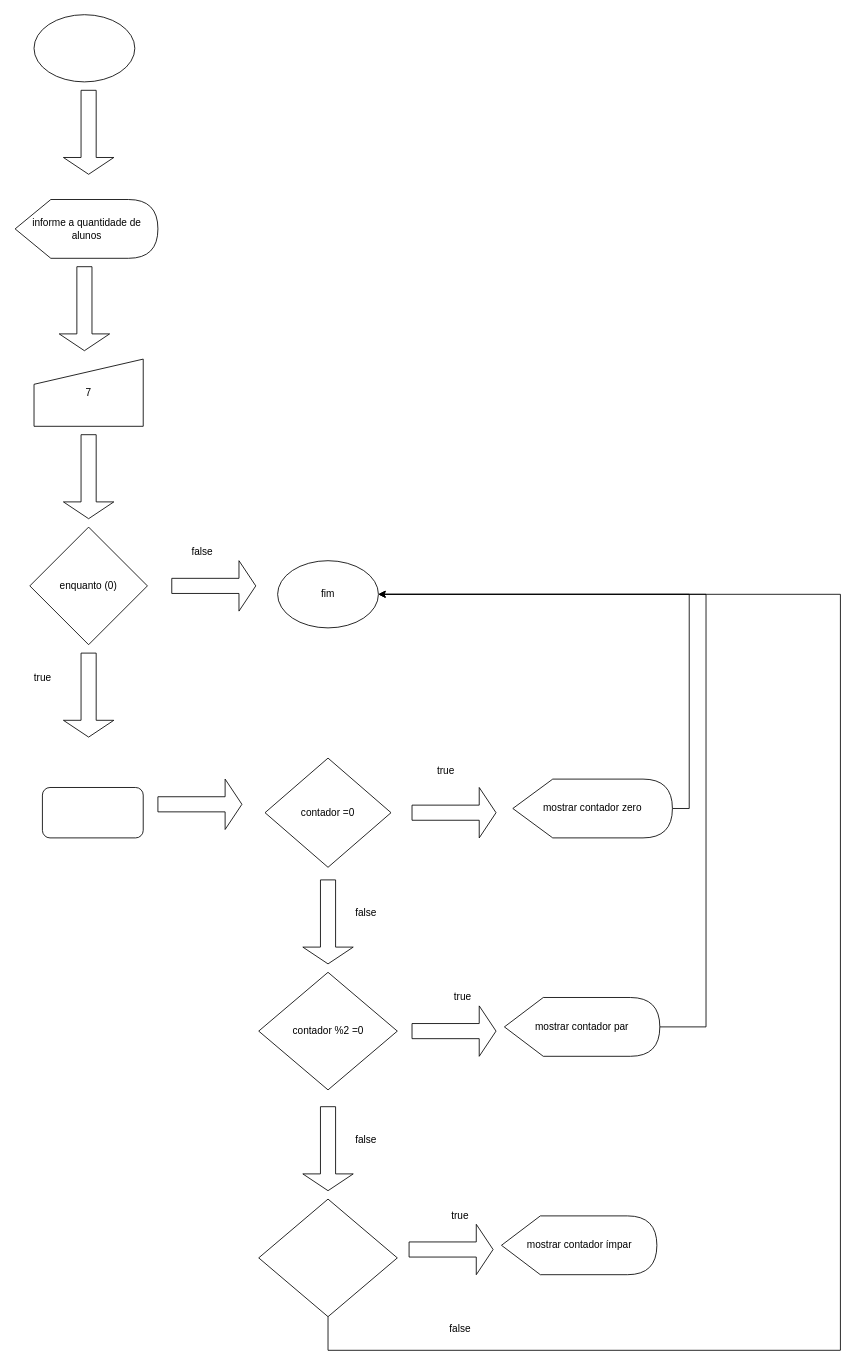
Some shapes in this 862 by 1372 pixel diagram are drawn without their labels. Here are the shapes that lost their labels. From the top down, the centre of each, then its label:
At pixel 84 48: "inicio".
At pixel 92 812: "contador ++".
At pixel 327 1257: "contador %2 =1".
